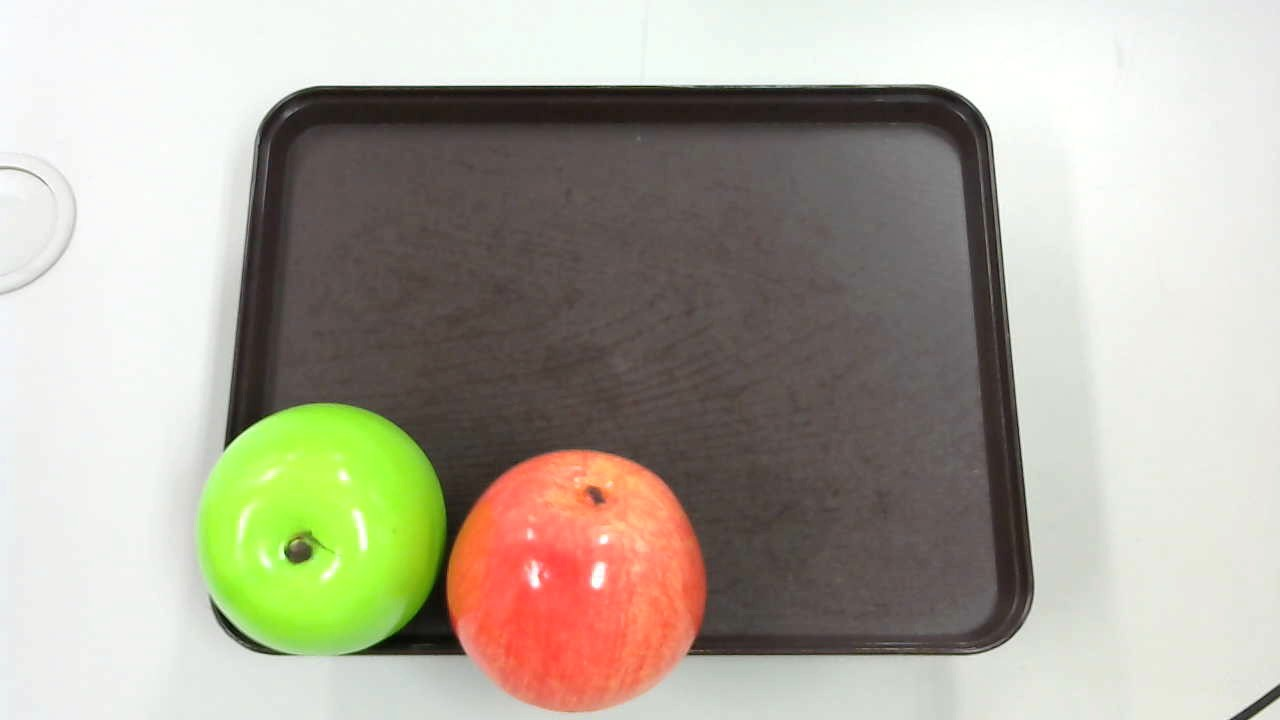green apple: (184, 398, 449, 663)
red apple: (447, 446, 705, 709)
